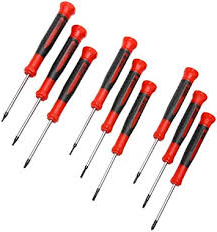Screwdriver: (3, 4, 216, 229)
